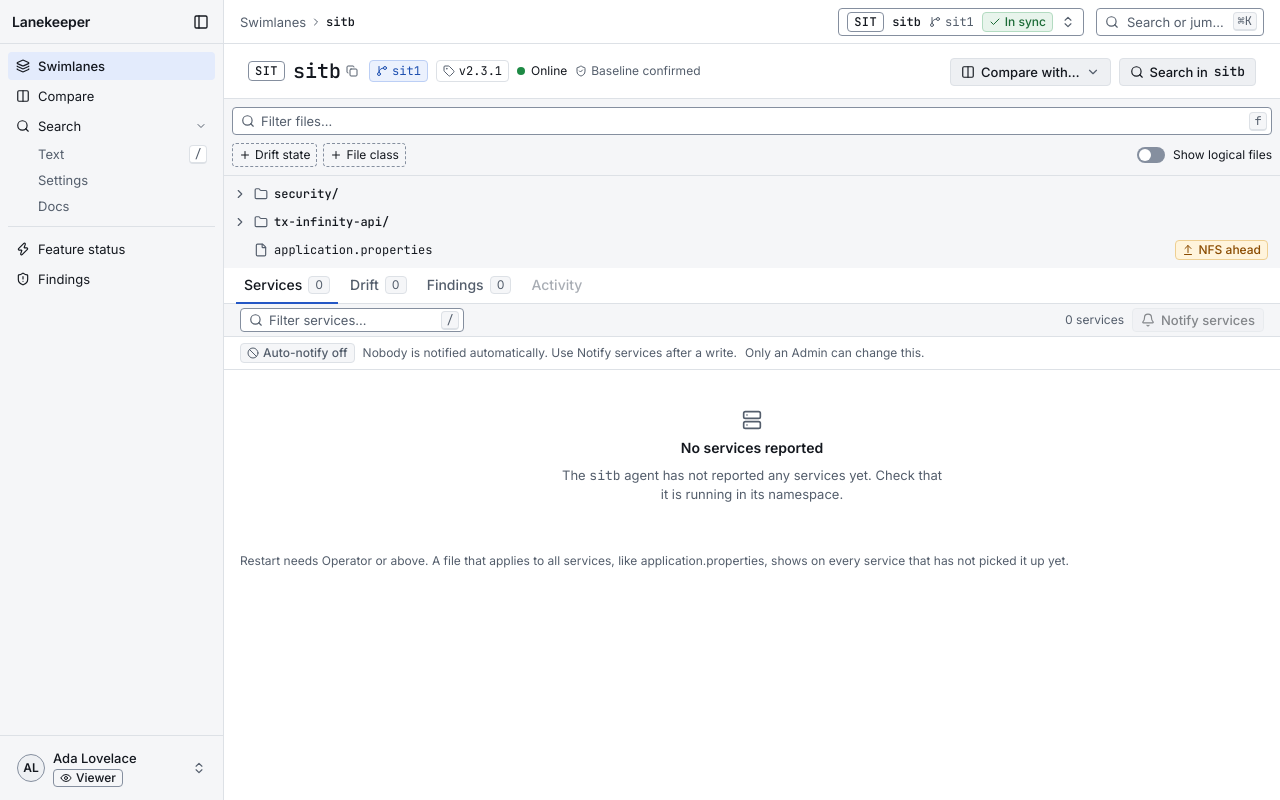
Test case: the filters › takes a pattern character as itself
Type ".*" into the search field labelled "Filter files" at {"x": 752, "y": 121}, box 261,108 -> 1243,134
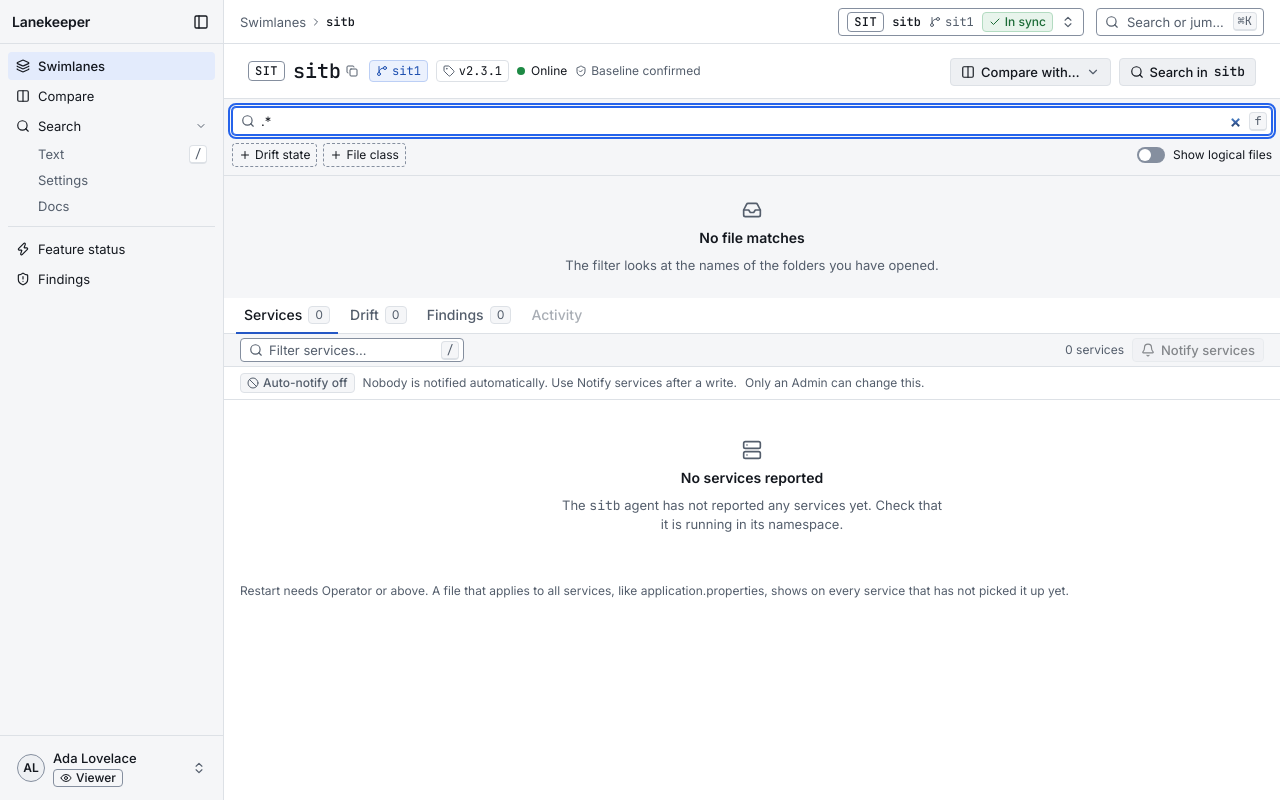
expect the text "No file matches" is shown: met, box 699,228 -> 805,248
